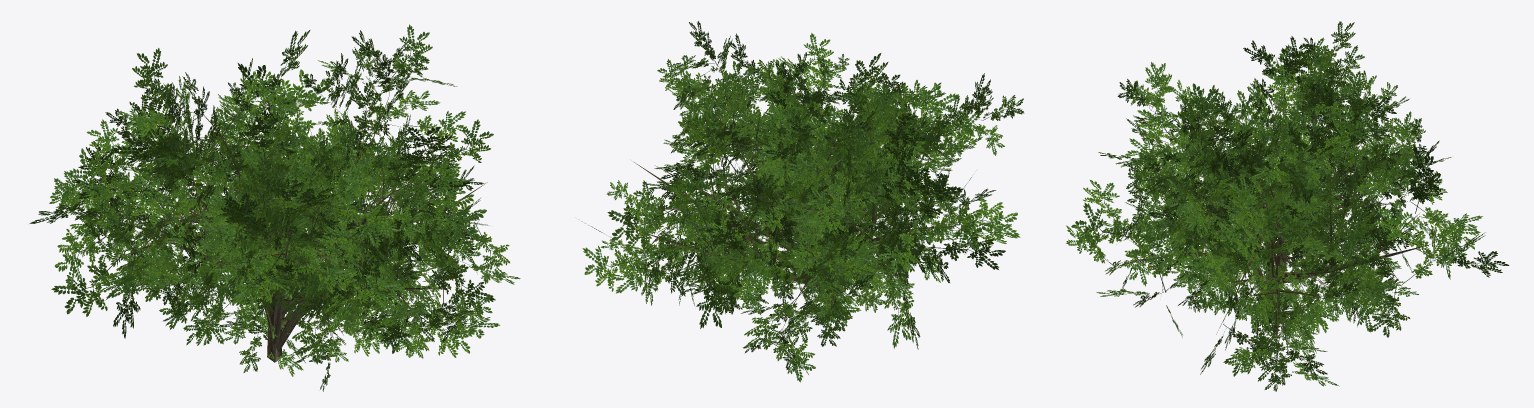
File: buta.glb
3 views of the same model, side by side, from view 1: azimuth 30°, elevation 25°; view 2: azimuth 150°, elevation 25°; view 3: azimuth 270°, elevation 25° (orthographic). The views are drawn at different scales.
Visible parts, largest first — view 1: v0_leaf, v1_leaf, v0_bark, v1_bark; view 2: v0_leaf, v1_leaf, v1_bark, v0_bark; view 3: v0_leaf, v1_leaf, v1_bark, v0_bark.
Part boxes in pixels (x1,y1,x2,y2): v0_leaf: (49,24,493,391); v1_leaf: (29,30,520,358); v0_bark: (116,74,444,354); v1_bark: (112,125,487,362); v0_leaf: (646,21,1024,382); v1_leaf: (581,53,1020,349); v1_bark: (634,141,957,317); v0_bark: (696,68,979,330); v0_leaf: (1098,21,1451,363); v1_leaf: (1066,46,1509,391); v1_bark: (1114,113,1451,360); v0_bark: (1151,69,1409,311).
Bounding box in the file's own units: 2.1 × 1.5 × 2.15.
2 materials, 2 textured.
